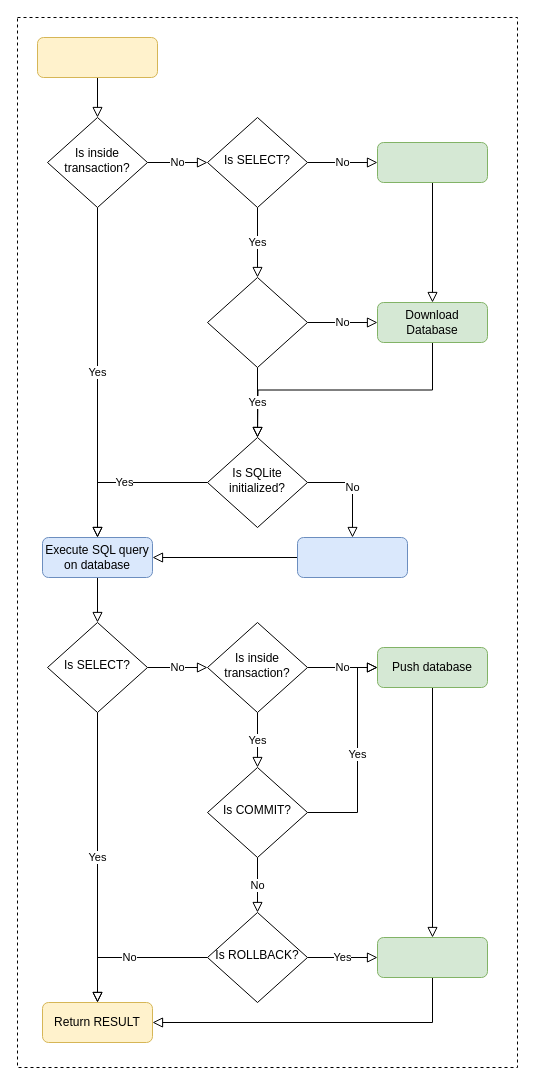
Some shapes in this 535 by 1085 pixel diagram are drawn without their labels. Here are the shapes that lost their labels. From the top down, the box of each, then its label:
(36, 36, 158, 78): Execute Sql Query
(376, 142, 488, 182): Acquire Lock
(206, 276, 308, 368): Is Cache Valid?
(296, 536, 408, 578): Init SQLite
(376, 936, 488, 978): Release Lock
